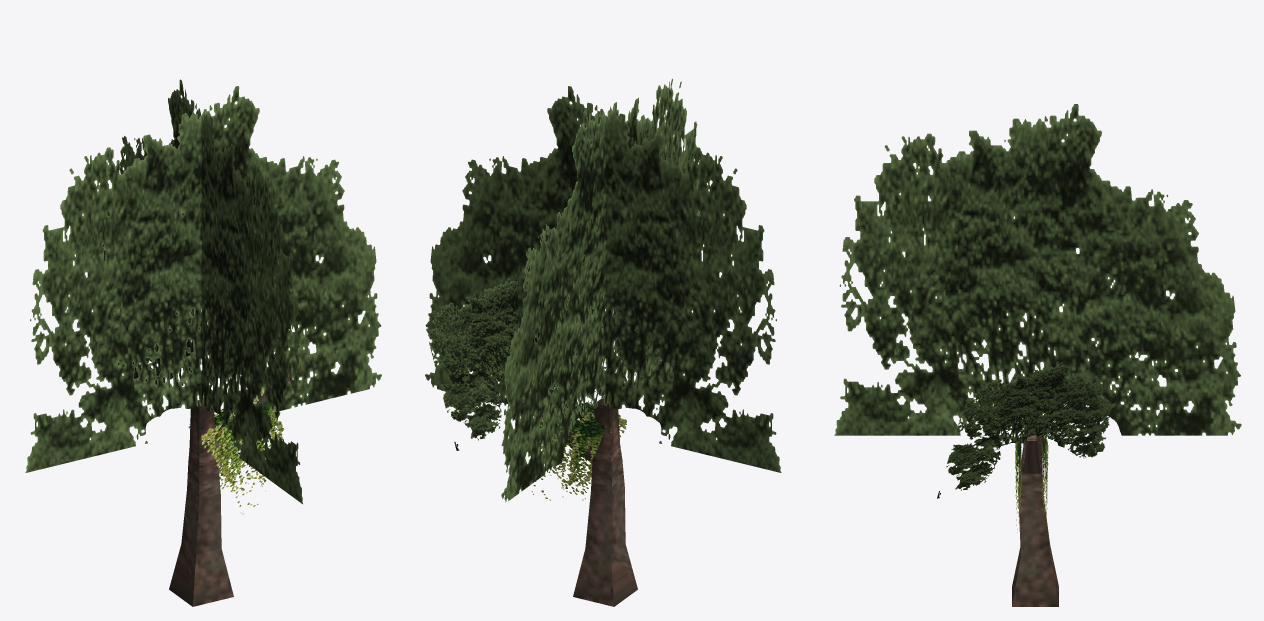
Rendered from MESH_Tree_04.fbx.
The picture shows the model from 3 angles, left to right: view 1: azimuth 30°, elevation 25°; view 2: azimuth 150°, elevation 25°; view 3: azimuth 270°, elevation 25°; orthographic projection.
Visible parts, largest first — view 1: MESH_Tree_04; view 2: MESH_Tree_04; view 3: MESH_Tree_04.
Part boxes in pixels (x1,y1,x2,y2): MESH_Tree_04: (25, 79, 381, 606); MESH_Tree_04: (425, 78, 781, 606); MESH_Tree_04: (834, 104, 1241, 606).
Size of the model in its own units: 9.14 by 12 by 9.14.
